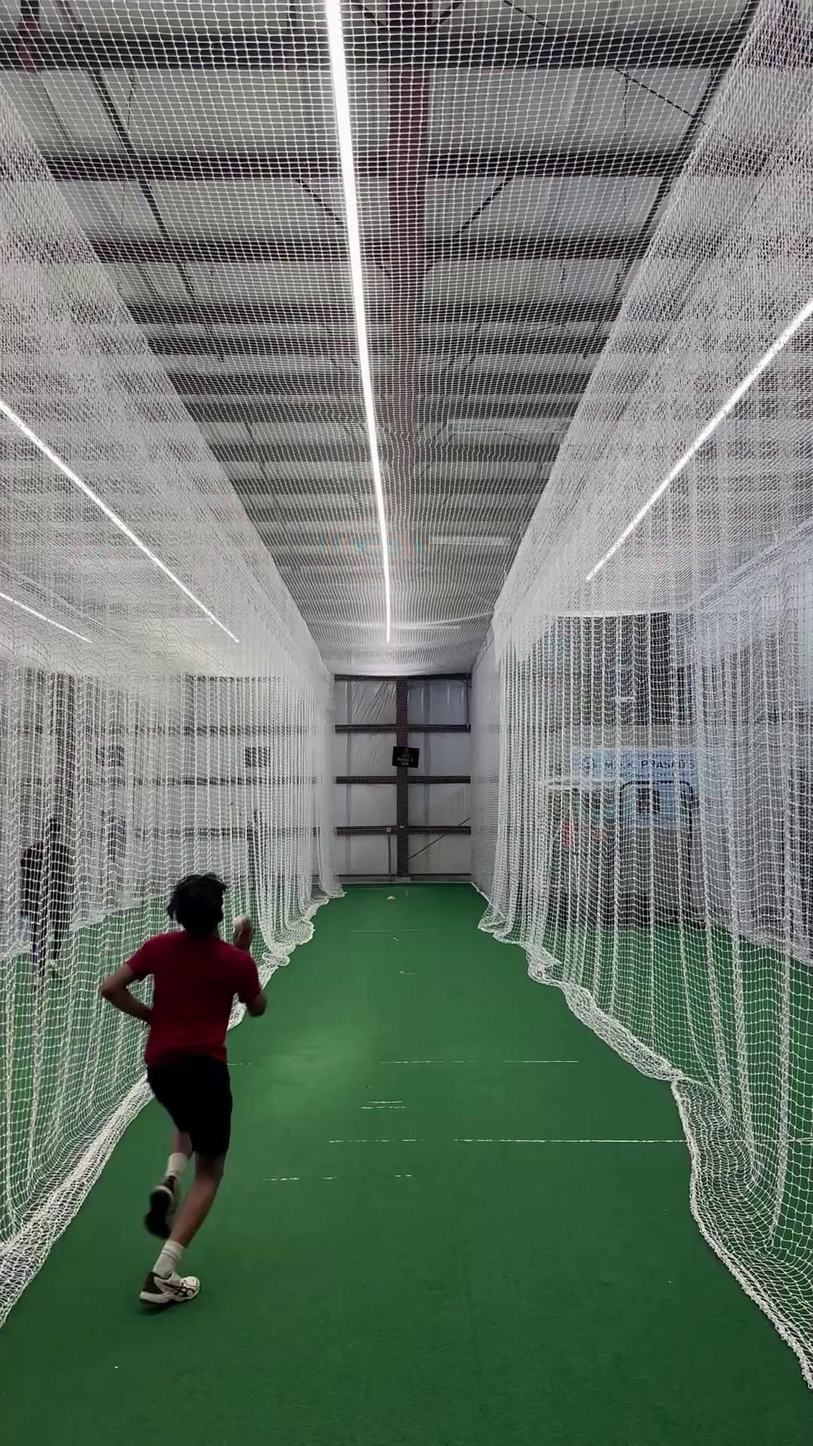ball: (225, 911, 257, 938)
